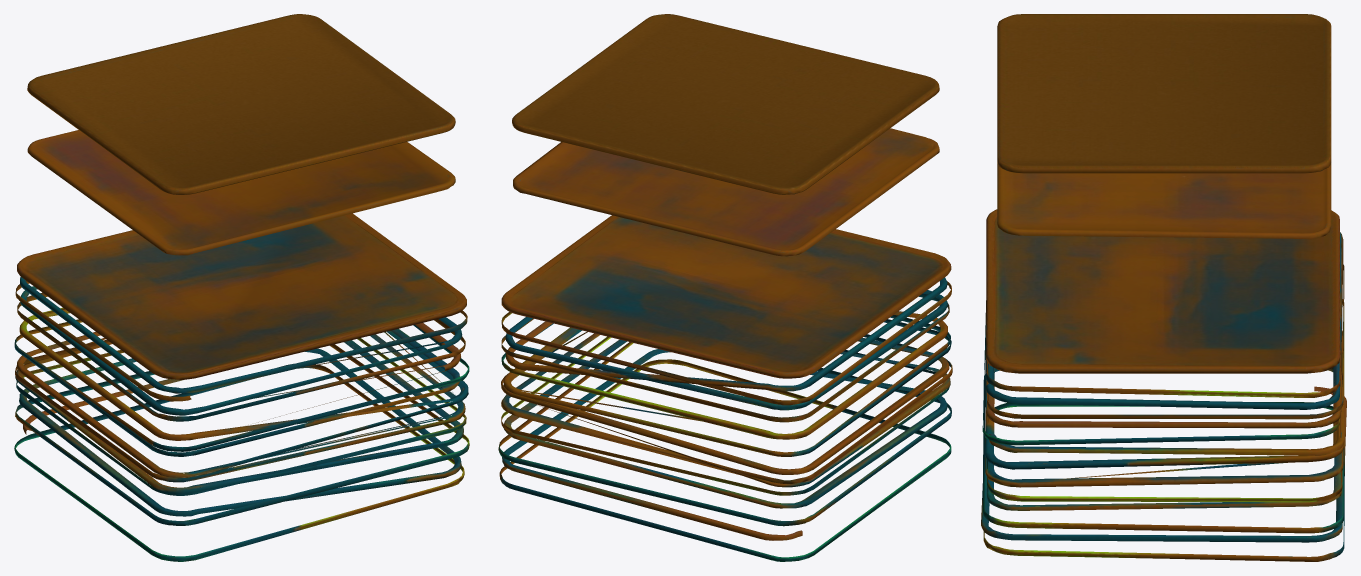
Rendered from bundle-hero.glb.
The picture shows the model from 3 angles, left to right: view 1: azimuth 30°, elevation 25°; view 2: azimuth 150°, elevation 25°; view 3: azimuth 270°, elevation 25°; orthographic projection. The views are drawn at different scales.
Parts seen in each view (by area): view 1: tripo_node_358a451f-18ae-480c-bda3-f4739f90444a; view 2: tripo_node_358a451f-18ae-480c-bda3-f4739f90444a; view 3: tripo_node_358a451f-18ae-480c-bda3-f4739f90444a.
Boxes of the visible parts, <box> form: tripo_node_358a451f-18ae-480c-bda3-f4739f90444a: <box>14,14,469,561</box>; tripo_node_358a451f-18ae-480c-bda3-f4739f90444a: <box>498,14,952,561</box>; tripo_node_358a451f-18ae-480c-bda3-f4739f90444a: <box>981,14,1346,561</box>.
Bounding box in the file's own units: 0.8926 × 0.998 × 0.8301.
1 material, 1 textured.
